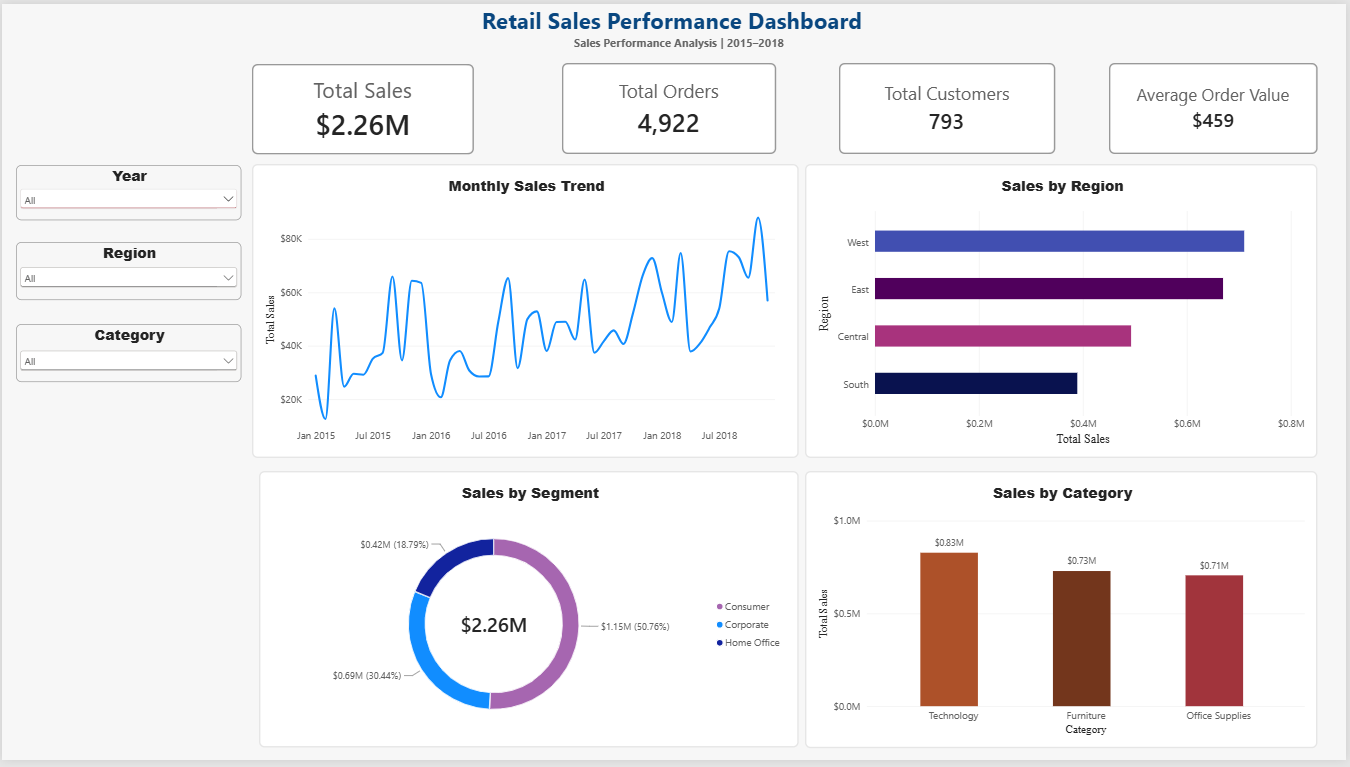

The page's visual inventory and layout, read from the dashboard file:
{"tool":"powerbi","page":{"name":"Executive Overview","canvas":[1920,1080],"ordinal":0},"visuals":[{"type":"cardVisual","title":"Total Sales","fields":{"Data":["train.Total Sales"]},"box":[357.8,85.1,316.6,129],"z":0},{"type":"cardVisual","title":"Total Sales","fields":{"Data":["train.Total Orders"]},"box":[799.4,83.8,305.9,130.3],"z":1000},{"type":"cardVisual","title":"Total Sales","fields":{"Data":["train.Total Customers"]},"box":[1195.7,83.8,308.6,130.3],"z":2000},{"type":"cardVisual","title":"Total Sales","fields":{"Data":["train.Average Order Value"]},"box":[1581.4,83.8,297.9,130.3],"z":3000},{"type":"lineChart","title":"Monthly Sales Trend","fields":{"Category":["train.Order Date.Variation.Date Hierarchy.Year","train.Order Date.Variation.Date Hierarchy.Quarter","train.Order Date.Variation.Date Hierarchy.Month","train.Order Date.Variation.Date Hierarchy.Day"],"Y":["train.Total Sales"]},"box":[357.8,228.8,780.5,420.2],"z":4000},{"type":"clusteredBarChart","title":"Sales by Region","fields":{"Category":["train.Region"],"Y":["train.Total Sales"]},"box":[1147.8,228.8,732.1,420.2],"z":4001},{"type":"donutChart","title":"Sales by Segment","fields":{"Category":["train.Segment"],"Y":["train.Total Sales"]},"box":[367.1,667.7,771.4,395],"z":4002},{"type":"clusteredColumnChart","title":"Sales by Category","fields":{"Category":["train.Category"],"Y":["train.Total Sales"]},"box":[1147.8,667.7,732.1,396],"z":4003},{"type":"slicer","title":"Year","fields":{"Values":["train.Order Date.Variation.Date Hierarchy.Year"]},"box":[20.7,229.3,322.4,79.3],"z":4004},{"type":"slicer","title":"Region","fields":{"Values":["train.Region"]},"box":[20.7,339.7,322.4,82.8],"z":4005},{"type":"slicer","title":"Category","fields":{"Values":["train.Category"]},"box":[20.7,456.9,322.4,82.8],"z":4006},{"type":"textbox","box":[685.7,0,549.3,57.2],"z":4007,"group":"g1"},{"type":"textbox","box":[816.8,44.8,311.4,25.9],"z":4008,"group":"g1"},{"type":"group","id":"g1","title":"Group 1","box":[685.7,0,548.6,71.4],"z":4009}]}

Visuals, with their boxes in screenshot pixels (x1, y1, x2, y2), scaled from the page's 1920x1080 canvas onto the 1350x767 screenshot:
"Total Sales" cardVisual: <region>252, 60, 474, 152</region>
"Total Sales" cardVisual: <region>562, 60, 777, 152</region>
"Total Sales" cardVisual: <region>841, 60, 1058, 152</region>
"Total Sales" cardVisual: <region>1112, 60, 1321, 152</region>
"Monthly Sales Trend" lineChart: <region>252, 162, 800, 461</region>
"Sales by Region" clusteredBarChart: <region>807, 162, 1322, 461</region>
"Sales by Segment" donutChart: <region>258, 474, 801, 755</region>
"Sales by Category" clusteredColumnChart: <region>807, 474, 1322, 755</region>
"Year" slicer: <region>15, 163, 241, 219</region>
"Region" slicer: <region>15, 241, 241, 300</region>
"Category" slicer: <region>15, 324, 241, 383</region>
textbox: <region>482, 0, 868, 41</region>
textbox: <region>574, 32, 793, 50</region>
"Group 1" group: <region>482, 0, 868, 51</region>
